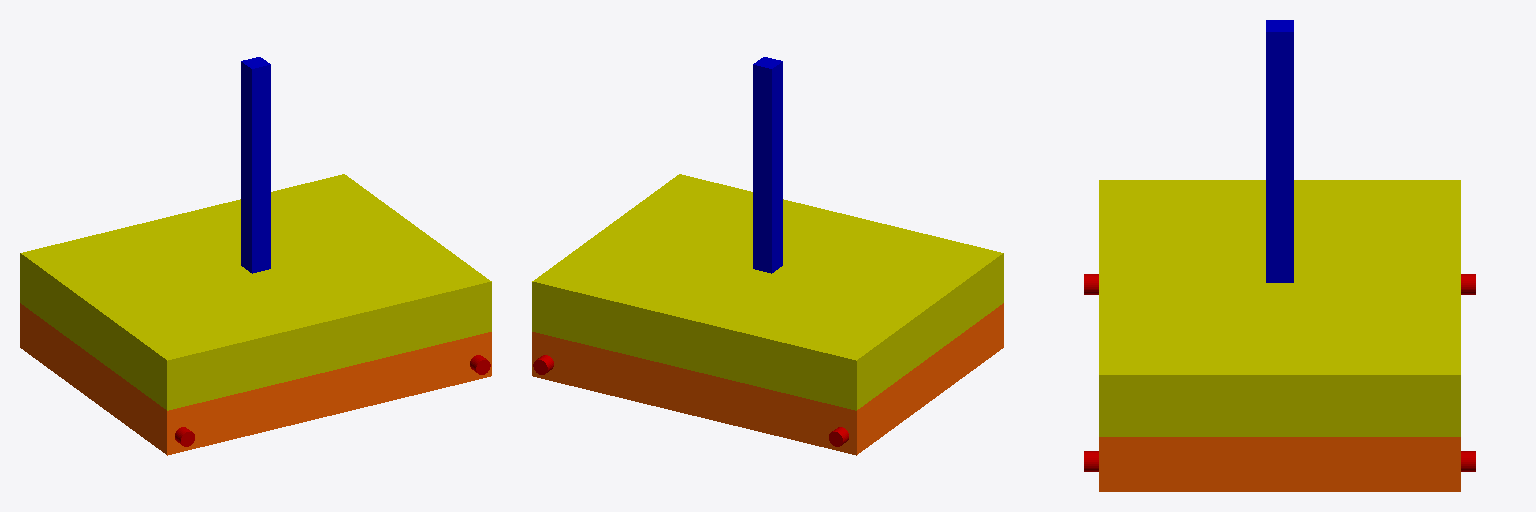
--- Render facts (derived) ---
3 views of the same robot in one strip: view 1: azimuth 30°, elevation 25°; view 2: azimuth 150°, elevation 25°; view 3: azimuth 270°, elevation 25° (orthographic).
Robot: robco_4wd_mecanum — 16 links, 15 joints (15 fixed); root link base_footprint; default pose: every joint at zero.
Links seen in each view (by area): view 1: electronics_box_link, base_link, torso_standoff_link; view 2: electronics_box_link, base_link, torso_standoff_link; view 3: electronics_box_link, base_link, torso_standoff_link.
Boxes of the visible links, bbox=[...] form: electronics_box_link: bbox=[20, 174, 491, 410]; base_link: bbox=[20, 303, 491, 455]; torso_standoff_link: bbox=[241, 57, 270, 273]; electronics_box_link: bbox=[532, 174, 1003, 410]; base_link: bbox=[532, 303, 1003, 455]; torso_standoff_link: bbox=[753, 57, 782, 273]; electronics_box_link: bbox=[1099, 180, 1460, 436]; base_link: bbox=[1099, 437, 1460, 491]; torso_standoff_link: bbox=[1266, 20, 1293, 282].
Size in the robot's own frame: 0.675 by 0.576 by 0.5958 metres.
0 mesh visuals loaded from 4 distinct referenced files (none loaded); not drawn: 6 (reference not matched to a file when rendering).

robot.urdf — robco_4wd_mecanum:
<?xml version="1.0" encoding="utf-8"?>
<!-- =================================================================================== -->
<!-- |    This document was autogenerated by xacro from robco_4wd_mecanum.xacro        | -->
<!-- |    EDITING THIS FILE BY HAND IS NOT RECOMMENDED                                 | -->
<!-- =================================================================================== -->
<robot name="robco_4wd_mecanum">
  <!-- RobcoMW 4wd mecanum wheel robot description-->
  <!-- Created by Stefan Chivarov-->
  <!-- IICT-BAS BG - Version 1.0 from Feb. 15th, 2021. -->
  <!--  NOTE:
      <box>  The origin of the box is in its center.
      <cylinder>  The origin of the cylinder is in its center. cylinder_coordinates.png
      <joint>     This is the transform from the parent link to the child link. 
                  The joint is located at the origin of the child link. -->
  <!-- Common macros file -->
  <!-- Created by Stefan Chivarov-->
  <!-- IICT-BAS BG - Version 1.0 from Feb. 20th, 2021. -->
  <!-- **** RP LIDAR A2 **** -->
  <!-- SHOULD Z ROTATE THE LIDAR JOINT 180 !!!  -->
  <!-- <joint name="rplidar_joint" type="fixed">
    <axis xyz="0 1 0" />
    <origin xyz="0.02 0 0.058" rpy="0 0 3.14"/>
    <parent link="base_link"/>
    <child link="laser"/>
  </joint> -->
  <!-- ! USE THIS ORIGIN TO ALLIGN THE DAE VISUAL: -->
  <!-- <origin xyz="0 0 0" rpy="1.5707 0 4.71"/> -->
  <!--     
  <xacro:macro name="rplidar_a2" params="name *origin">
  <link name="${name}_link">
    <visual>
    <xacro:insert_block name="origin" />
      <geometry>
        <mesh filename="package://robco_4wd_mecanum_description/meshes/rplidar.dae" scale="0.001 0.001 0.001"/>
      </geometry>
    </visual> 
    <collision>
    <xacro:insert_block name="origin" />
      <geometry>
        <mesh filename="package://robco_4wd_mecanum_description/meshes/rplidar.dae" scale="0.001 0.001 0.001"/>
      </geometry>
    </collision>  
    <inertial>
      <mass value="1e-5" />
      <xacro:insert_block name="origin" />
      <inertia ixx="0" ixy="0" ixz="0" iyy="0" iyz="0" izz="0" />
    </inertial>
  </link> 
  </xacro:macro>     -->
  <gazebo>
    <!--<plugin name="gazebo_ros_control" filename="libgazebo_ros_control.so">
      <robotNamespace>/</robotNamespace>
    </plugin>-->
    <plugin filename="librobco_ros_force_based_move.so" name="robco_ros_force_based_move">
      <commandTopic>cmd_vel</commandTopic>
      <odometryTopic>odom</odometryTopic>
      <odometryFrame>odom</odometryFrame>
      <odometryRate>25.0</odometryRate>
      <robotBaseFrame>base_footprint</robotBaseFrame>
      <cmdVelTimeOut>0.25</cmdVelTimeOut>
      <publishOdometryTf>0</publishOdometryTf>
      <yaw_velocity_p_gain>1.0</yaw_velocity_p_gain>
      <x_velocity_p_gain>15.0</x_velocity_p_gain>
      <y_velocity_p_gain>15.0</y_velocity_p_gain>
      <max_x_velocity>0.6</max_x_velocity>
      <max_y_velocity>0.6</max_y_velocity>
      <max_yaw_velocity>0.5</max_yaw_velocity>
    </plugin>
  </gazebo>
  <!-- All static links get collapsed down to base_link in Gazebo, so that's
       the one to apply the colour to (in Gazebo 5+). -->
  <gazebo reference="base_footprint">
    <material>Gazebo/Yellow</material>
    <gravity>true</gravity>
  </gazebo>
  <gazebo reference="base_link">
    <!-- <material>Gazebo/Yellow</material> -->
    <material>Gazebo/DarkGrey</material>
  </gazebo>
  <gazebo reference="electronics_module_link">
    <material>Gazebo/Grey</material>
  </gazebo>
  <gazebo reference="left_sensor">
    <material>Gazebo/Black</material>
  </gazebo>
  <gazebo reference="front_sensor">
    <material>Gazebo/Black</material>
  </gazebo>
  <gazebo reference="right_sensor">
    <material>Gazebo/Black</material>
  </gazebo>
  <gazebo reference="rear_sensor">
    <material>Gazebo/Black</material>
  </gazebo>
  <gazebo reference="front_left_wheel_shaft_link">
    <material>Gazebo/Black</material>
  </gazebo>
  <gazebo reference="back_left_wheel_shaft_link">
    <material>Gazebo/Black</material>
  </gazebo>
  <gazebo reference="front_right_wheel_shaft_link">
    <material>Gazebo/Black</material>
  </gazebo>
  <gazebo reference="back_right_wheel_shaft_link">
    <material>Gazebo/Black</material>
  </gazebo>
  <!-- Wheel friction to zero, as movement is handled by applying forces at the body level. -->
  <gazebo reference="front_left_wheel_link">
    <material>Gazebo/Grey</material>
    <mu1>0.0</mu1>
    <mu2>0.0</mu2>
  </gazebo>
  <gazebo reference="back_left_wheel_link">
    <material>Gazebo/Grey</material>
    <mu1>0.0</mu1>
    <mu2>0.0</mu2>
  </gazebo>
  <gazebo reference="front_right_wheel_link">
    <material>Gazebo/Grey</material>
    <mu1>0.0</mu1>
    <mu2>0.0</mu2>
  </gazebo>
  <gazebo reference="back_right_wheel_link">
    <material>Gazebo/Grey</material>
    <mu1>0.0</mu1>
    <mu2>0.0</mu2>
  </gazebo>
  <gazebo reference="chassis_joint_visualizer">
    <material>Gazebo/Red</material>
    <mu1>0.0</mu1>
    <mu2>0.0</mu2>
  </gazebo>
  <!--  ****  REALSENSE  ****  -->
  <gazebo reference="realsense_link">
    <material>Gazebo/Grey</material>
  </gazebo>
  <!--  ****  RP LIDAR  ****  -->
  <!-- https://github.com/husarion/rosbot_description/blob/master/src/rosbot_description/urdf/rosbot.gazebo -->
  <!-- If you cant't use your GPU comment RpLidar using GPU and uncomment RpLidar using CPU 
    gazebo plugin. -->
  <!-- Noise parameters based on published spec for rplidar laser
    achieving "+-30mm" accuracy at range < 10m.  A mean of 0.0m and
    stddev of 0.01m will put 99.7% of samples within 0.03m of the true
    reading. -->
  <gazebo reference="laser">
    <material>Gazebo/Grey</material>
  </gazebo>
  <!-- If you cant't use your GPU comment RpLidar using GPU and uncomment RpLidar using CPU 
    gazebo plugin. -->
  <!-- Noise parameters based on published spec for rplidar laser
    achieving "+-30mm" accuracy at range < 10m.  A mean of 0.0m and
    stddev of 0.01m will put 99.7% of samples within 0.03m of the true
    reading. -->
  <!-- RpLidar A2 using GPU -->
  <!--<gazebo reference="laser">
    <sensor type="gpu_ray" name="head_rplidar_sensor">
      <pose>0 0 0.5 0 0 0</pose>
      <visualize>false</visualize>
      <update_rate>40</update_rate>
      <ray>
        <scan>
          <horizontal>
            <samples>720</samples>
            <resolution>1</resolution>
            <min_angle>-3.14159265</min_angle>
            <max_angle>3.14159265</max_angle>
          </horizontal>
        </scan>
        <range>
          <min>0.2</min>
          <max>12.0</max>
          <resolution>0.01</resolution>
        </range>
        <noise>
          <type>gaussian</type>
          <mean>0.0</mean>
          <stddev>0.01</stddev>
        </noise>
      </ray>
      <plugin name="gazebo_ros_head_rplidar_controller" filename="libgazebo_ros_gpu_laser.so">
        <topicName>scan</topicName>
        <frameName>laser</frameName>
      </plugin>
    </sensor>
  </gazebo>-->
  <!-- RpLidar A3 using GPU -->
  <!-- <gazebo reference="laser">
    <sensor type="gpu_ray" name="head_rplidar_sensor">
      <pose>0 0 0.06 0 0 0</pose>
      <visualize>false</visualize>
      <update_rate>40</update_rate>
      <ray>
        <scan>
          <horizontal>
            <samples>720</samples>
            <resolution>1</resolution>
            <min_angle>-3.14159265</min_angle>
            <max_angle>3.14159265</max_angle>
          </horizontal>
        </scan>
        <range>
          <min>0.2</min>
          <max>25.0</max>
          <resolution>0.01</resolution>
        </range>
        <noise>
          <type>gaussian</type>
          <mean>0.0</mean>
          <stddev>0.01</stddev>
        </noise>
      </ray>
      <plugin name="gazebo_ros_head_rplidar_controller" filename="libgazebo_ros_gpu_laser.so">
        <topicName>scan</topicName>
        <frameName>laser</frameName>
      </plugin>
    </sensor>
  </gazebo> -->
  <!-- RpLidar A2 using CPU -->
  <gazebo reference="laser">
    <sensor name="head_rplidar_sensor" type="ray">
      <pose>0 0 0.06 0 0 0</pose>
      <visualize>false</visualize>
      <!-- <visualize>true</visualize> -->
      <update_rate>40</update_rate>
      <ray>
        <scan>
          <horizontal>
            <samples>720</samples>
            <resolution>1</resolution>
            <min_angle>-3.14159265</min_angle>
            <max_angle>3.14159265</max_angle>
          </horizontal>
        </scan>
        <range>
          <min>0.2</min>
          <max>12.0</max>
          <resolution>0.01</resolution>
        </range>
        <noise>
          <type>gaussian</type>
          <mean>0.0</mean>
          <stddev>0.01</stddev>
        </noise>
      </ray>
      <plugin filename="libgazebo_ros_laser.so" name="gazebo_ros_head_rplidar_controller">
        <topicName>scan</topicName>
        <frameName>laser</frameName>
      </plugin>
    </sensor>
  </gazebo>
  <!-- RpLidar A3 using CPU -->
  <!-- <gazebo reference="laser">
    <sensor type="ray" name="head_rplidar_sensor">
      <pose>0 0 0.06 0 0 0</pose>
      <visualize>false</visualize>
      <update_rate>40</update_rate>
      <ray>
        <scan>
          <horizontal>
            <samples>720</samples>
            <resolution>1</resolution>
            <min_angle>-3.14159265</min_angle>
            <max_angle>3.14159265</max_angle>
          </horizontal>
        </scan>
        <range>
          <min>0.2</min>
          <max>25.0</max>
          <resolution>0.01</resolution>
        </range>
        <noise>
          <type>gaussian</type>
          <mean>0.0</mean>
          <stddev>0.01</stddev>
        </noise>
      </ray>
      <plugin name="gazebo_ros_head_rplidar_controller" filename="libgazebo_ros_laser.so">
        <topicName>scan</topicName>
        <frameName>laser</frameName>
      </plugin>
    </sensor>
  </gazebo> -->
  <!-- ****  ASTRA **** -->
  <!-- https://github.com/husarion/rosbot_description/blob/master/src/rosbot_description/urdf/rosbot.gazebo -->
  <gazebo reference="camera_link">
    <material>Gazebo/Grey</material>
  </gazebo>
  <gazebo reference="camera_link">
    <sensor name="openni_camera_camera" type="depth">
      <always_on>1</always_on>
      <visualize>true</visualize>
      <camera>
        <horizontal_fov>1.047</horizontal_fov>
        <image>
          <width>640</width>
          <height>480</height>
          <format>R8G8B8</format>
        </image>
        <depth_camera>

        </depth_camera>
        <clip>
          <near>0.1</near>
          <far>100</far>
        </clip>
      </camera>
      <plugin filename="libgazebo_ros_openni_kinect.so" name="kinect_controller">
        <alwaysOn>true</alwaysOn>
        <updateRate>10.0</updateRate>
        <cameraName>camera</cameraName>
        <frameName>camera_depth_frame</frameName>
        <imageTopicName>rgb/image_raw</imageTopicName>
        <depthImageTopicName>depth/image_raw</depthImageTopicName>
        <pointCloudTopicName>depth/points</pointCloudTopicName>
        <cameraInfoTopicName>rgb/camera_info</cameraInfoTopicName>
        <depthImageCameraInfoTopicName>depth/camera_info</depthImageCameraInfoTopicName>
        <pointCloudCutoff>0.4</pointCloudCutoff>
        <hackBaseline>0.07</hackBaseline>
        <distortionK1>0.0</distortionK1>
        <distortionK2>0.0</distortionK2>
        <distortionK3>0.0</distortionK3>
        <distortionT1>0.0</distortionT1>
        <distortionT2>0.0</distortionT2>
        <CxPrime>0.0</CxPrime>
        <Cx>0.0</Cx>
        <Cy>0.0</Cy>
        <focalLength>0.0</focalLength>
      </plugin>
    </sensor>
  </gazebo>
  <!--  ****  IMU ****  -->
  <!-- https://github.com/husarion/rosbot_description/blob/master/src/rosbot_description/urdf/rosbot.gazebo -->
  <gazebo reference="top">
    <gravity>true</gravity>
    <sensor name="imu_sensor" type="imu">
      <always_on>true</always_on>
      <update_rate>10</update_rate>
      <visualize>true</visualize>
      <topic>imu</topic>
      <plugin filename="libgazebo_ros_imu_sensor.so" name="imu_plugin">
        <topicName>imu</topicName>
        <bodyName>imu_link</bodyName>
        <updateRateHZ>10.0</updateRateHZ>
        <gaussianNoise>0.0</gaussianNoise>
        <xyzOffset>0 0 0</xyzOffset>
        <rpyOffset>0 0 0</rpyOffset>
        <frameName>imu_link</frameName>
      </plugin>
      <pose>0 0 0 0 0 0</pose>
    </sensor>
  </gazebo>
  <!-- ****  RANGE SENSORS **** -->
  <!-- https://github.com/husarion/rosbot_description/blob/master/src/rosbot_description/urdf/rosbot.gazebo -->
  <gazebo reference="range_fl">
    <sensor name="range_fl" type="ray">
      <pose>0 0 0 0 0 0</pose>
      <update_rate>5</update_rate>
      <ray>
        <scan>
          <horizontal>
            <samples>5</samples>
            <resolution>1.0</resolution>
            <min_angle>-0.05</min_angle>
            <max_angle>0.05</max_angle>
          </horizontal>
          <vertical>
            <samples>5</samples>
            <resolution>1</resolution>
            <min_angle>-0.05</min_angle>
            <max_angle>0.05</max_angle>
          </vertical>
        </scan>
        <range>
          <min>0.01</min>
          <max>0.9</max>
          <resolution>0.01</resolution>
        </range>
      </ray>
      <plugin filename="libgazebo_ros_range.so" name="gazebo_ros_range">
        <gaussianNoise>0.005</gaussianNoise>
        <alwaysOn>true</alwaysOn>
        <updateRate>5</updateRate>
        <topicName>range/fl</topicName>
        <frameName>range_fl</frameName>
        <fov>0.1</fov>
        <radiation>ultrasound</radiation>
      </plugin>
    </sensor>
  </gazebo>
  <gazebo reference="range_fr">
    <sensor name="range_fr" type="ray">
      <pose>0 0 0 0 0 0</pose>
      <update_rate>5</update_rate>
      <ray>
        <scan>
          <horizontal>
            <samples>5</samples>
            <resolution>1.0</resolution>
            <min_angle>-0.05</min_angle>
            <max_angle>0.05</max_angle>
          </horizontal>
          <vertical>
            <samples>5</samples>
            <resolution>1</resolution>
            <min_angle>-0.05</min_angle>
            <max_angle>0.05</max_angle>
          </vertical>
        </scan>
        <range>
          <min>0.01</min>
          <max>0.9</max>
          <resolution>0.01</resolution>
        </range>
      </ray>
      <plugin filename="libgazebo_ros_range.so" name="gazebo_ros_range">
        <gaussianNoise>0.005</gaussianNoise>
        <alwaysOn>true</alwaysOn>
        <updateRate>5</updateRate>
        <topicName>range/fr</topicName>
        <frameName>range_fr</frameName>
        <fov>0.1</fov>
        <radiation>ultrasound</radiation>
      </plugin>
    </sensor>
  </gazebo>
  <gazebo reference="range_rl">
    <sensor name="range_rl" type="ray">
      <pose>0 0 0 0 0 0</pose>
      <update_rate>5</update_rate>
      <ray>
        <scan>
          <horizontal>
            <samples>5</samples>
            <resolution>1.0</resolution>
            <min_angle>-0.05</min_angle>
            <max_angle>0.05</max_angle>
          </horizontal>
          <vertical>
            <samples>5</samples>
            <resolution>1</resolution>
            <min_angle>-0.05</min_angle>
            <max_angle>0.05</max_angle>
          </vertical>
        </scan>
        <range>
          <min>0.01</min>
          <max>0.9</max>
          <resolution>0.01</resolution>
        </range>
      </ray>
      <plugin filename="libgazebo_ros_range.so" name="gazebo_ros_range">
        <gaussianNoise>0.005</gaussianNoise>
        <alwaysOn>true</alwaysOn>
        <updateRate>5</updateRate>
        <topicName>range/rl</topicName>
        <frameName>range_rl</frameName>
        <fov>0.1</fov>
        <radiation>ultrasound</radiation>
      </plugin>
    </sensor>
  </gazebo>
  <gazebo reference="range_rr">
    <sensor name="range_rr" type="ray">
      <pose>0 0 0 0 0 0</pose>
      <update_rate>5</update_rate>
      <ray>
        <scan>
          <horizontal>
            <samples>5</samples>
            <resolution>1.0</resolution>
            <min_angle>-0.05</min_angle>
            <max_angle>0.05</max_angle>
          </horizontal>
          <vertical>
            <samples>5</samples>
            <resolution>1</resolution>
            <min_angle>-0.05</min_angle>
            <max_angle>0.05</max_angle>
          </vertical>
        </scan>
        <range>
          <min>0.01</min>
          <max>0.9</max>
          <resolution>0.01</resolution>
        </range>
      </ray>
      <plugin filename="libgazebo_ros_range.so" name="gazebo_ros_range">
        <gaussianNoise>0.005</gaussianNoise>
        <alwaysOn>true</alwaysOn>
        <updateRate>5</updateRate>
        <topicName>range/rr</topicName>
        <frameName>range_rr</frameName>
        <fov>0.1</fov>
        <radiation>ultrasound</radiation>
      </plugin>
    </sensor>
  </gazebo>
  <!--<xacro:include filename="$(find robot_description)/urdf/gazebo" />-->
  <!-- <xacro:include filename="$(find robot_description)/urdf/materials.xacro" />
  <xacro:include filename="$(find robot_description)/urdf/robco_properties.xacro" />
  <xacro:include filename="$(find robot_description)/urdf/robco_calibration.xacro" /> -->
  <!--########### Hardware macros #####################################################-->
  <!-- <xacro:include filename="$(find robot_description)/urdf/macros.xacro" />  
  <xacro:include filename="$(find robot_description)/urdf/robco_macros.xacro" />  
  <xacro:include filename="$(find robot_description)/urdf/robco_2wd_base_macro.xacro" />  
  <xacro:include filename="$(find robot_description)/urdf/robco_body_macro.xacro" />
  <xacro:include filename="$(find robot_description)/urdf/robco_imu_macro.xacro" />
  <xacro:include filename="$(find robot_description)/urdf/robco_rplidar_macro.xacro" />
  <xacro:include filename="$(find robot_description)/urdf/robco_mover4_macro.xacro" />
  <xacro:include filename="$(find robot_description)/urdf/robco_kinect_mount_macro.xacro" />  -->
  <!--###################################################################################-->
  <!--###################################################################################-->
  <material name="yellow">
    <color rgba="0.8 0.8 0.0 1.0"/>
  </material>
  <material name="black">
    <color rgba="0.15 0.15 0.15 1.0"/>
  </material>
  <material name="dark_grey">
    <color rgba="0.2 0.2 0.2 1.0"/>
  </material>
  <material name="light_grey">
    <color rgba="0.4 0.4 0.4 1.0"/>
  </material>
  <material name="Black">
    <color rgba="0.0 0.0 0.0 1.0"/>
  </material>
  <material name="Blue">
    <color rgba="0.0 0.0 0.8 1.0"/>
  </material>
  <material name="Green">
    <color rgba="0.0 0.8 0.0 1.0"/>
  </material>
  <material name="Grey">
    <color rgba="0.2 0.2 0.2 1.0"/>
  </material>
  <material name="DarkGrey">
    <color rgba="0.1 0.1 0.1 1.0"/>
  </material>
  <material name="Orange">
    <color rgba="1.0 0.423529411765 0.0392156862745 1.0"/>
  </material>
  <material name="Brown">
    <color rgba="0.870588235294 0.811764705882 0.764705882353 1.0"/>
  </material>
  <material name="Red">
    <color rgba="0.8 0.0 0.0 1.0"/>
  </material>
  <material name="White">
    <color rgba="1.0 1.0 1.0 1.0"/>
  </material>
  <!--###################################################################################-->
  <!--###################################################################################-->
  <!-- ####### GENERIC CONSTANTS ##### -->
  <!-- ####### ROBOT ORIGINAL CHASSIS CONSTANTS ##### -->
  <!-- in kg/mm-->
  <!-- in kg/mm-->
  <!-- in kg-->
  <!-- <xacro:property name="base_x_origin_to_wheel_origin" value="0.0" /> -->
  <!-- <xacro:property name="base_y_origin_to_wheel_origin" value="0.2" /> VAJNO!!!!!! da se izmeri pak - ot tova zawisi odometriata!!!!!!!!!!! -->
  <!-- <xacro:property name="base_z_origin_to_wheel_origin" value="${-(base_plate_botom_from_base_frame_Z_offset - wheel_radius)}" /> -->
  <!-- ####### END ROBOT CONSTANTS ##### -->
  <!--###################################################################################-->
  <!--###################################################################################-->
  <!-- base_footprint is a fictitious link(frame) that is on the ground right below base_link origin, navigation stack depends on this frame -->
  <link name="base_footprint">
    <!-- <pose>0 0 0 0 0 0</pose> -->
  </link>
  <!-- The joint to the base_frame (the world) is set at height, equal to the distance form the ground to the bottom of the chassis -->
  <joint name="base_link_joint" type="fixed">
    <origin rpy="0 0 0" xyz="0 0 0.0402"/>
    <parent link="base_footprint"/>
    <child link="base_link"/>
  </joint>
  <link name="base_link">
    <visual>
      <!-- The chassis is represented with a box and the origin of that box is in it's center. 
    That's why, in order to visualize properly, we need to add half of the box height to 
    the distance from the ground allready defined in the joint. -->
      <origin rpy="0 0 0" xyz="0 0 0.0445"/>
      <geometry>
        <!-- <mesh filename="package://robco_4wd_mecanum_description/meshes/robco_base_link.STL" scale="0.001 0.001 0.001"/> -->
        <box size="0.675 0.53 0.089"/>
      </geometry>
      <!-- <material name="light_grey" /> -->
      <material name="Orange"/>
    </visual>
    <collision>
      <origin rpy="0 0 0" xyz="0 0 0"/>
      <geometry>
        <box size="0.675 0.53 0.089"/>
      </geometry>
    </collision>
    <inertial>
      <mass value="16.2"/>
      <origin rpy="0 0 0" xyz="0 0 0"/>
      <inertia ixx="0.389908194037" ixy="0.0" ixz="0.0" iyy="0.625786849685" iyz="0.0" izz="0.994308352276"/>
    </inertial>
  </link>
  <!-- WHEEL SHAFTS -->
  <joint name="front_left_wheel_shaft_joint" type="fixed">
    <parent link="base_link"/>
    <child link="front_left_wheel_shaft_link"/>
    <origin rpy="0 0 0" xyz="0.3075 0.265 0.0345"/>
  </joint>
  <link name="front_left_wheel_shaft_link">
    <visual>
      <origin rpy="1.570796327 0 0" xyz="0 0.0115 0"/>
      <geometry>
        <cylinder length="0.023" radius="0.015"/>
      </geometry>
      <material name="Red"/>
    </visual>
    <collision>
      <origin rpy="1.570796327 0 0" xyz="0 0.0115 0"/>
      <geometry>
        <cylinder length="0.023" radius="0.015"/>
      </geometry>
    </collision>
    <inertial>
      <mass value="0.06"/>
      <origin rpy="1.570796327 0 0" xyz="0 0.0115 0"/>
      <inertia ixx="6.019997592e-06" ixy="0.0" ixz="0.0" iyy="6.019997592e-06" iyz="0.0" izz="6.75e-06"/>
    </inertial>
  </link>
  <joint name="back_left_wheel_shaft_joint" type="fixed">
    <parent link="base_link"/>
    <child link="back_left_wheel_shaft_link"/>
    <origin rpy="0 0 0" xyz="-0.3075 0.265 0.0345"/>
  </joint>
  <link name="back_left_wheel_shaft_link">
    <visual>
      <origin rpy="1.570796327 0 0" xyz="0 0.0115 0"/>
      <geometry>
        <cylinder length="0.023" radius="0.015"/>
      </geometry>
      <material name="Red"/>
    </visual>
    <collision>
      <origin rpy="1.570796327 0 0" xyz="0 0.0115 0"/>
      <geometry>
        <cylinder length="0.023" radius="0.015"/>
      </geometry>
    </collision>
    <inertial>
      <mass value="0.06"/>
      <origin rpy="1.570796327 0 0" xyz="0 0.0115 0"/>
      <inertia ixx="6.019997592e-06" ixy="0.0" ixz="0.0" iyy="6.019997592e-06" iyz="0.0" izz="6.75e-06"/>
    </inertial>
  </link>
  <joint name="front_right_wheel_shaft_joint" type="fixed">
    <parent link="base_link"/>
    <child link="front_right_wheel_shaft_link"/>
    <origin rpy="0 0 0" xyz="0.3075 -0.265 0.0345"/>
  </joint>
  <link name="front_right_wheel_shaft_link">
    <visual>
      <origin rpy="1.570796327 0 0" xyz="0 -0.0115 0"/>
      <geometry>
        <cylinder length="0.023" radius="0.015"/>
      </geometry>
      <material name="Red"/>
    </visual>
    <collision>
      <origin rpy="1.570796327 0 0" xyz="0 -0.0115 0"/>
      <geometry>
        <cylinder length="0.023" radius="0.015"/>
      </geometry>
    </collision>
    <inertial>
      <mass value="0.06"/>
      <origin rpy="1.570796327 0 0" xyz="0 -0.0115 0"/>
      <inertia ixx="6.019997592e-06" ixy="0.0" ixz="0.0" iyy="6.019997592e-06" iyz="0.0" izz="6.75e-06"/>
    </inertial>
  </link>
  <joint name="back_right_wheel_shaft_joint" type="fixed">
    <parent link="base_link"/>
    <child link="back_right_wheel_shaft_link"/>
    <origin rpy="0 0 0" xyz="-0.3075 -0.265 0.0345"/>
  </joint>
  <link name="back_right_wheel_shaft_link">
    <visual>
      <origin rpy="1.570796327 0 0" xyz="0 -0.0115 0"/>
      <geometry>
        <cylinder length="0.023" radius="0.015"/>
      </geometry>
      <material name="Red"/>
    </visual>
    <collision>
      <origin rpy="1.570796327 0 0" xyz="0 -0.0115 0"/>
      <geometry>
        <cylinder length="0.023" radius="0.015"/>
      </geometry>
    </collision>
    <inertial>
      <mass value="0.06"/>
      <origin rpy="1.570796327 0 0" xyz="0 -0.0115 0"/>
      <inertia ixx="6.019997592e-06" ixy="0.0" ixz="0.0" iyy="6.019997592e-06" iyz="0.0" izz="6.75e-06"/>
    </inertial>
  </link>
  <!-- WHEELS -->
  <joint name="front_left_wheel_joint" type="fixed">
    <origin rpy="0 0 0" xyz="0 0.023 0"/>
    <parent link="front_left_wheel_shaft_link"/>
    <child link="front_left_wheel_link"/>
    <axis xyz="0 1 0"/>
  </joint>
  <link name="front_left_wheel_link">
    <visual>
      <origin rpy="0 0 0" xyz="0 0.023 0"/>
      <geometry>
        <mesh filename="package://robco_4wd_mecanum_description/meshes/mecanum_wheel_left.STL" scale="0.001 0.00092 0.00152"/>
      </geometry>
      <material name="light_grey"/>
    </visual>
    <collision>
      <origin rpy="0 0 0" xyz="0 0.023 0"/>
      <geometry>
        <cylinder length="0.046" radius="0.0762"/>
      </geometry>
    </collision>
    <inertial>
      <mass value="0.82"/>
      <origin rpy="0 0 0" xyz="0 0.023 0"/>
      <inertia ixx="0.00133491299937" ixy="0.0" ixz="0.0" iyy="0.00133491299937" iyz="0.0" izz="0.0023806404"/>
    </inertial>
  </link>
  <joint name="back_left_wheel_joint" type="fixed">
    <origin rpy="0 0 0" xyz="0 0.023 0"/>
    <parent link="back_left_wheel_shaft_link"/>
    <child link="back_left_wheel_link"/>
    <axis xyz="0 1 0"/>
  </joint>
  <link name="back_left_wheel_link">
    <visual>
      <origin rpy="0 0 0" xyz="0 0.023 0"/>
      <geometry>
        <mesh filename="package://robco_4wd_mecanum_description/meshes/mecanum_wheel_left.STL" scale="0.001 0.00092 0.00152"/>
      </geometry>
      <material name="light_grey"/>
    </visual>
    <collision>
      <origin rpy="0 0 0" xyz="0 0.023 0"/>
      <geometry>
        <cylinder length="0.046" radius="0.0762"/>
      </geometry>
    </collision>
    <inertial>
      <mass value="0.82"/>
      <origin rpy="0 0 0" xyz="0 0.023 0"/>
      <inertia ixx="0.00133491299937" ixy="0.0" ixz="0.0" iyy="0.00133491299937" iyz="0.0" izz="0.0023806404"/>
    </inertial>
  </link>
  <joint name="front_right_wheel_joint" type="fixed">
    <origin rpy="0 0 0" xyz="0 -0.023 0"/>
    <parent link="front_right_wheel_shaft_link"/>
    <child link="front_right_wheel_link"/>
    <axis xyz="0 1 0"/>
  </joint>
  <link name="front_right_wheel_link">
    <visual>
      <origin rpy="0 0 0" xyz="0 -0.023 0"/>
      <geometry>
        <mesh filename="package://robco_4wd_mecanum_description/meshes/mecanum_wheel_right.STL" scale="0.001 0.00092 0.00152"/>
      </geometry>
      <material name="light_grey"/>
    </visual>
    <collision>
      <origin rpy="0 0 0" xyz="0 -0.023 0"/>
      <geometry>
        <cylinder length="0.046" radius="0.0762"/>
      </geometry>
    </collision>
    <inertial>
      <mass value="0.82"/>
      <origin rpy="0 0 0" xyz="0 -0.023 0"/>
      <inertia ixx="0.00133491299937" ixy="0.0" ixz="0.0" iyy="0.00133491299937" iyz="0.0" izz="0.0023806404"/>
    </inertial>
  </link>
  <joint name="back_right_wheel_joint" type="fixed">
    <origin rpy="0 0 0" xyz="0 -0.023 0"/>
    <parent link="back_right_wheel_shaft_link"/>
    <child link="back_right_wheel_link"/>
    <axis xyz="0 1 0"/>
  </joint>
  <link name="back_right_wheel_link">
    <visual>
      <origin rpy="0 0 0" xyz="0 -0.023 0"/>
      <geometry>
        <mesh filename="package://robco_4wd_mecanum_description/meshes/mecanum_wheel_right.STL" scale="0.001 0.00092 0.00152"/>
      </geometry>
      <material name="light_grey"/>
    </visual>
    <collision>
      <origin rpy="0 0 0" xyz="0 -0.023 0"/>
      <geometry>
        <cylinder length="0.046" radius="0.0762"/>
      </geometry>
    </collision>
    <inertial>
      <mass value="0.82"/>
      <origin rpy="0 0 0" xyz="0 -0.023 0"/>
      <inertia ixx="0.00133491299937" ixy="0.0" ixz="0.0" iyy="0.00133491299937" iyz="0.0" izz="0.0023806404"/>
    </inertial>
  </link>
  <!-- **** ELECTRONICS BOX (MODULE) - height 100 mm ****  -->
  <!-- /batteries height is 76 mm whenlaying on the side. -->
  <!-- can accomadete, not only Raspberry PI 4 with passive cooling case,  -->
  <!-- but also  Intel NUC in the big case 51 mm height/ -->
  <joint name="electronics_box_link_joint" type="fixed">
    <parent link="base_link"/>
    <child link="electronics_box_link"/>
    <origin rpy="0 0 0" xyz="0 0 0.089"/>
  </joint>
  <link name="electronics_box_link">
    <visual>
      <!-- The chassis is represented with a box and the origin of that box is in it's center. 
    That's why, in order to visualize properly, we need to add half of the box height to 
    the distance from the ground allready defined in the joint. -->
      <origin rpy="0 0 0" xyz="0 0 0.05"/>
      <geometry>
        <!-- <mesh filename="package://robco_4wd_mecanum_description/meshes/robco_base_link.STL" scale="0.001 0.001 0.001"/> -->
        <box size="0.675 0.53 0.1"/>
      </geometry>
      <!-- <material name="light_grey" /> -->
      <material name="yellow"/>
    </visual>
    <collision>
      <origin rpy="0 0 0" xyz="0 0 0"/>
      <geometry>
        <box size="0.675 0.53 0.1"/>
      </geometry>
    </collision>
    <inertial>
      <mass value="15"/>
      <origin rpy="0 0 0" xyz="0 0 0"/>
      <inertia ixx="0.36362485455" ixy="0.0" ixz="0.0" iyy="0.582031017188" iyz="0.0" izz="0.920655881738"/>
    </inertial>
  </link>
  <joint name="torso_standoff_link_joint" type="fixed">
    <parent link="electronics_box_link"/>
    <child link="torso_standoff_link"/>
    <origin rpy="0 0 0" xyz="0 0 0.1"/>
  </joint>
  <link name="torso_standoff_link">
    <visual>
      <!-- The chassis is represented with a box and the origin of that box is in it's center. 
    That's why, in order to visualize properly, we need to add half of the box height to 
    the distance from the ground allready defined in the joint. -->
      <origin rpy="0 0 0" xyz="0 0 0.2034"/>
      <geometry>
        <!-- <mesh filename="package://robco_4wd_mecanum_description/meshes/robco_base_link.STL" scale="0.001 0.001 0.001"/> -->
        <box size="0.04 0.04 0.4068"/>
      </geometry>
      <!-- <material name="light_grey" /> -->
      <material name="Blue"/>
    </visual>
    <collision>
      <origin rpy="0 0 0" xyz="0 0 0"/>
      <geometry>
        <box size="0.04 0.04 0.4068"/>
      </geometry>
    </collision>
    <inertial>
      <mass value="0.99666"/>
      <origin rpy="0 0 0" xyz="0 0 0"/>
      <inertia ixx="0.0138773421123" ixy="0.0" ixz="0.0" iyy="0.0138773421123" iyz="0.0" izz="0.00026577589369"/>
    </inertial>
  </link>
  <!--  **** RP LIDAR A2 **** -->
  <!-- Position the RP Lidar 10 mm from the front edge of the electronics box, to avoid the chance of collision, just in case. -->
  <!-- RP Lidar's /diameter 75.7 mm/ center point needs to be at x = (337.5 - 10) - (75.7/2) = 289.65 mm from the box center -->
  <!-- ! The Joint is positioned on top plane of the electronics box module -->
  <!-- **** RP LIDAR A2 CYLINDER VISUALISATION -->
  <!-- <xacro:fixed_joint name="rplidar" parent_name="electronics_box_link" child_name="rplidar_link" color="Red">
    <origin xyz="${289.65*SCALE_mm_to_m} 0 ${100*SCALE_mm_to_m}" rpy="0 0 0" />
  </xacro:fixed_joint> -->
  <!-- RP Lidar A2 cylinder visual -->
  <!-- <xacro:cylinder_link name="rplidar" radius="${75.7/2*SCALE_mm_to_m}" lenght="${40.80*SCALE_mm_to_m}" mass="${0.190}" color="Orange">
    <origin xyz="0 0 ${40.80/2*SCALE_mm_to_m}" rpy="0 0 0" />
  </xacro:cylinder_link> -->
  <!-- Mount point (joint) visual marker -->
  <!-- <xacro:box_link name="rplidar" lenght="0.01" width="0.01" height="0.01" mass="0.01" color="Orange">
    <origin xyz="0 0 0" rpy="0 0 0" />
  </xacro:box_link> -->
  <!-- <xacro:fixed_joint name="rplidar" parent_name="electronics_box_link" child_name="rplidar_link" color="Grey">
    <origin xyz="${289.65*SCALE_mm_to_m} 0 ${100*SCALE_mm_to_m}" rpy="0 0 3.14" />
  </xacro:fixed_joint> -->
  <!-- <xacro:rplidar_a2 name="rplidar">
    <origin xyz="0 0 0" rpy="1.5707 0 4.71"/>
  </xacro:rplidar_a2> -->
  <joint name="rplidar_joint" type="fixed">
    <axis xyz="0 1 0"/>
    <origin rpy="0 0 3.14" xyz="0.28965 0 0.1"/>
    <parent link="electronics_box_link"/>
    <child link="laser"/>
  </joint>
  <!-- rplidar Laser -->
  <link name="laser">
    <visual>
      <origin rpy="1.5707 0 4.71" xyz="0 0 0"/>
      <geometry>
        <mesh filename="package://robco_4wd_mecanum_description/meshes/rplidar.dae" scale="0.001 0.001 0.001"/>
      </geometry>
    </visual>
    <collision>
      <origin rpy="1.5707 0 4.71" xyz="0 0 0"/>
      <geometry>
        <mesh filename="package://robco_4wd_mecanum_description/meshes/rplidar.dae" scale="0.001 0.001 0.001"/>
      </geometry>
    </collision>
    <inertial>
      <mass value="1e-5"/>
      <origin rpy="1.5707 0 4.71" xyz="0 0 0"/>
      <inertia ixx="0" ixy="0" ixz="0" iyy="0" iyz="0" izz="0"/>
    </inertial>
  </link>
  <!-- **** ORBBEC ASTRA RGBD CAMERA  ****  -->
  <joint name="astra_joint" type="fixed">
    <axis xyz="0 0 0"/>
    <!-- <origin xyz="${(20)*SCALE_mm_to_m} 0 ${(100+350)*SCALE_mm_to_m}" rpy="0 1.8326 0" /> -->
    <origin rpy="0 0.261799 0" xyz="0.075 0 0.45"/>
    <parent link="electronics_box_link"/>
    <child link="camera_link"/>
  </joint>
  <link name="camera_link">
    <collision>
      <origin rpy="0 0 0" xyz="0.02 0 0"/>
      <geometry>
        0
        
        <box size="0.001 0.001 0.001"/>
      </geometry>
    </collision>
    <visual>
      <origin rpy="1.5707 0 1.5707" xyz="-0.01 0 -0.03"/>
      <geometry>
        <mesh filename="package://robco_4wd_mecanum_description/meshes/astra.dae" scale="0.001 0.001 0.001"/>
      </geometry>
    </visual>
    <inertial>
      <mass value="1e-5"/>
      <origin rpy="0 0 0" xyz="0 0 0"/>
      <inertia ixx="0" ixy="0" ixz="0" iyy="0" iyz="0" izz="0"/>
    </inertial>
  </link>
  <joint name="camera_optical_joint" type="fixed">
    <origin rpy="-1.57079632679 0 -1.57079632679" xyz="0 0 0"/>
    <parent link="camera_link"/>
    <child link="camera_rgb_frame"/>
  </joint>
  <link name="camera_rgb_frame">
  </link>
  <joint name="camera_depth_joint" type="fixed">
    <origin rpy="-1.57079632679 0 -1.57079632679" xyz="0 0 0"/>
    <parent link="camera_link"/>
    <child link="camera_depth_frame"/>
  </joint>
  <link name="camera_depth_frame">
  </link>
  <!-- ******************** =============================== ************************************ -->
  <!-- **** Intel RealSense Depth Camera D435 ****  -->
  <!-- dimensions 90 mm x 25 mm x 25 mm    weight 258.5477 g. -->
  <!-- ! The Joint is positioned on the front plane of the torso standoff at height of ?? -->
  <!-- <xacro:fixed_joint name="realsense" parent_name="electronics_box_link" child_name="realsense_link" color="Red">
    <origin xyz="${(20)*SCALE_mm_to_m} 0 ${(100+350)*SCALE_mm_to_m}" rpy="0 1.8326 0" />
  </xacro:fixed_joint>

  <xacro:box_link name="realsense" lenght="${25*SCALE_mm_to_m}" width="${90*SCALE_mm_to_m}" height="${25*SCALE_mm_to_m}" mass="0.2585477" color="Orange">
    <origin xyz="0 0 0" rpy="0 0 0" />
  </xacro:box_link> -->
  <!-- JOINT AND LINK VISUALIZERS -->
  <!-- Camera direction VISUALIZER -->
  <!-- <xacro:fixed_joint name="module_visualizer" parent_name="realsense_link" child_name="realsense_visualizer_link" color="Red">
    <origin xyz="0 0 0" rpy="0 0 0" />
  </xacro:fixed_joint>

  <xacro:box_link name="realsense_visualizer" lenght="0.01" width="0.01" height="0.1" mass="0.01" color="Red">
       <origin xyz="0 0 0" rpy="0 0 0" />
  </xacro:box_link> -->
  <!-- <xacro:fixed_joint name="module_visualizer" parent_name="base_link" child_name="module_visualizer_link" color="Red">
    <origin xyz="0 0 0.5" rpy="0 0 0" />
  </xacro:fixed_joint>

  <xacro:box_link name="module_visualizer" lenght="0.05" width="0.05" height="0.05" mass="0.01" color="Red">
       <origin xyz="0 0 0" rpy="0 0 0" />
  </xacro:box_link> -->
  <!-- Include URM04 ultrasonic range finders -->
  <!-- <xacro:include filename="$(find robco_4wd_mecanum_description)/urdf/urm04_sensor.xacro"/> -->
  <!-- front sensor -->
  <!-- <xacro:urm04_sensor frame_name="front_sensor" ros_topic="front_sensor" update_rate="10" min_range="0.04" max_range="2.5" horizontal_field_of_view="1.04" vertical_field_of_view="0.04" ray_count="2" /> -->
  <!-- left sensor -->
  <!-- <xacro:urm04_sensor frame_name="left_sensor" ros_topic="left_sensor" update_rate="10" min_range="0.04" max_range="2.5" horizontal_field_of_view="1.04" vertical_field_of_view="0.04" ray_count="2" /> -->
  <!-- right sensor -->
  <!-- <xacro:urm04_sensor frame_name="right_sensor" ros_topic="right_sensor" update_rate="10" min_range="0.04" max_range="2.5" horizontal_field_of_view="1.04" vertical_field_of_view="0.04" ray_count="2" /> -->
  <!-- rear sensor -->
  <!-- <xacro:urm04_sensor frame_name="rear_sensor" ros_topic="rear_sensor" update_rate="10" min_range="0.04" max_range="2.5" horizontal_field_of_view="1.04" vertical_field_of_view="0.04" ray_count="2" /> -->
</robot>
